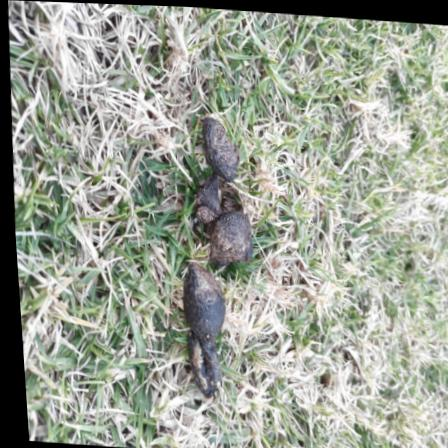dog-poop: (151, 95, 268, 397)
